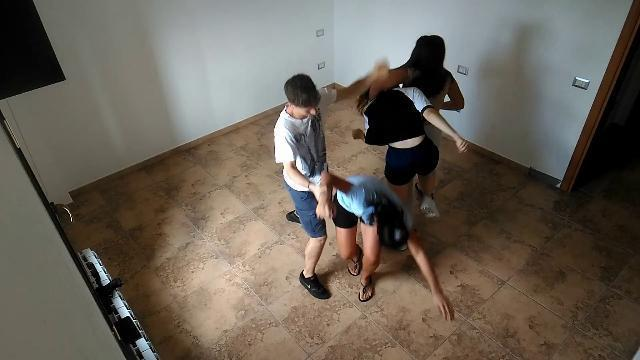violence: (271, 60, 459, 324), (352, 34, 464, 252)
